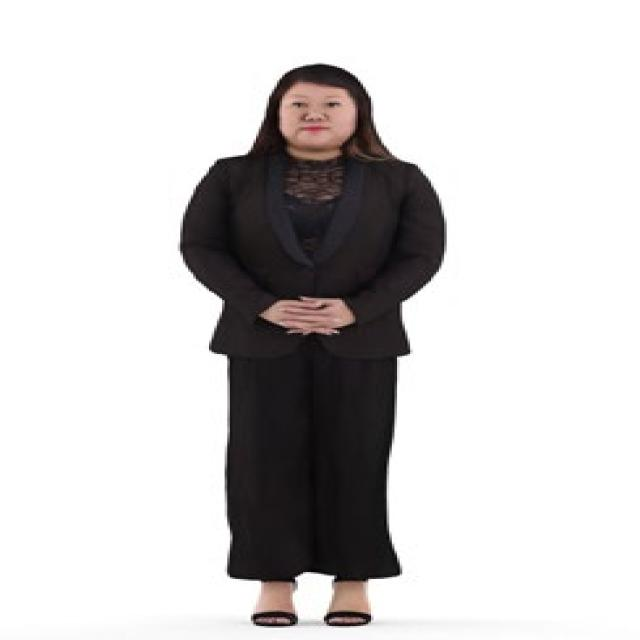standing: (173, 61, 454, 627)
